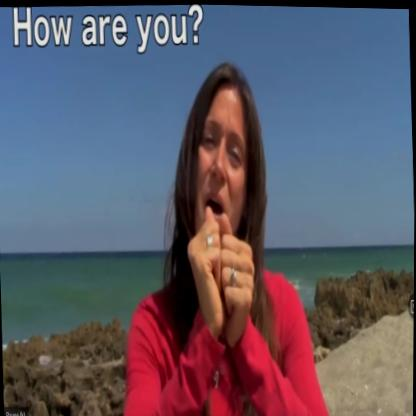HowAreYou: (183, 189, 272, 377)
